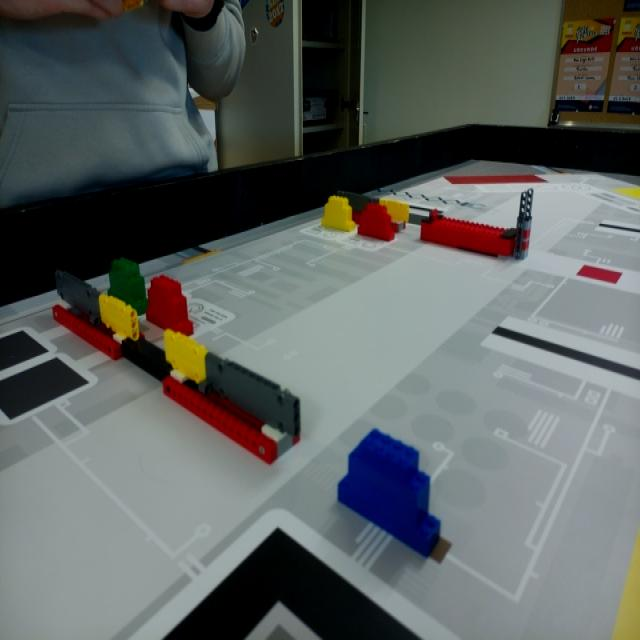blau: (337, 429, 440, 555)
gruen: (107, 258, 146, 310)
rot: (148, 269, 194, 337), (360, 204, 395, 243)
yellow: (324, 198, 352, 230)
